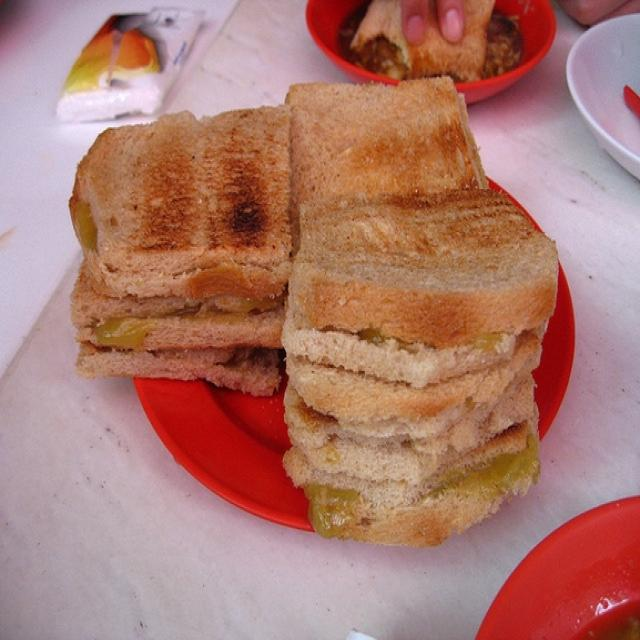面包点心: (30, 15, 611, 597)
